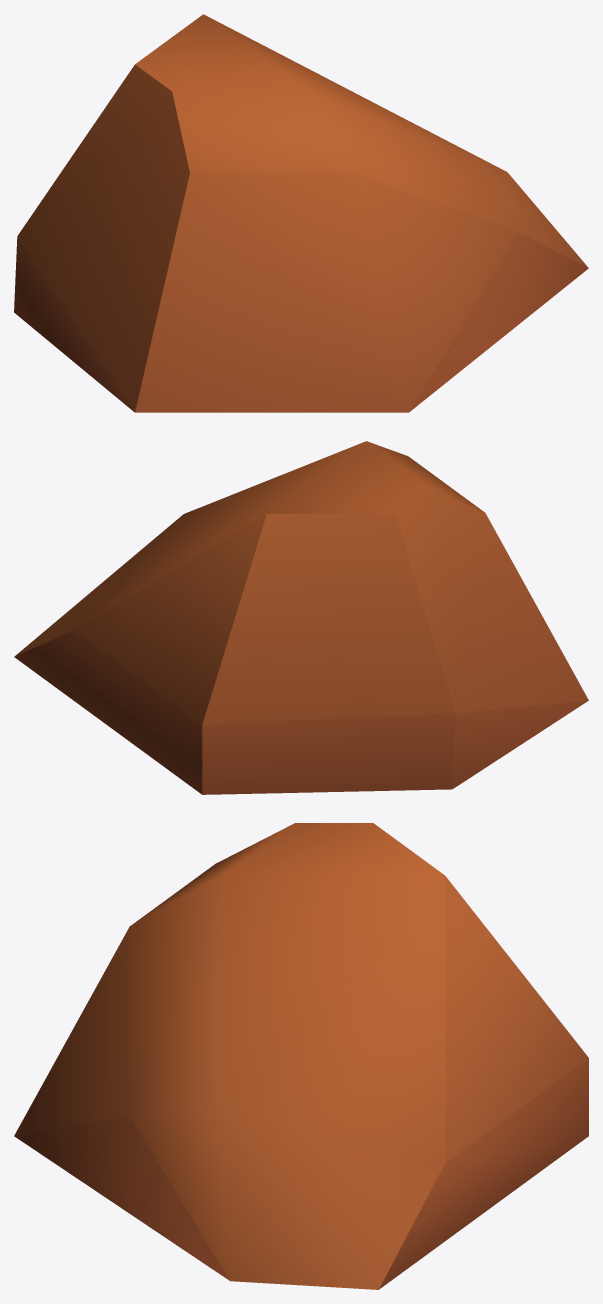
The model's file is space-rock-a.glb.
The picture shows the model from 3 angles, top to bottom: view 1: azimuth 30°, elevation 25°; view 2: azimuth 150°, elevation 25°; view 3: azimuth 270°, elevation 25°; orthographic projection. The views are drawn at different scales.
Visible parts, largest first — view 1: rock_A; view 2: rock_A; view 3: rock_A.
Boxes of the visible parts, bbox=[...] form: rock_A: bbox=[14, 14, 588, 412]; rock_A: bbox=[14, 441, 588, 794]; rock_A: bbox=[14, 823, 588, 1289].
Size of the model in its own units: 0.533 by 0.25 by 0.5.
